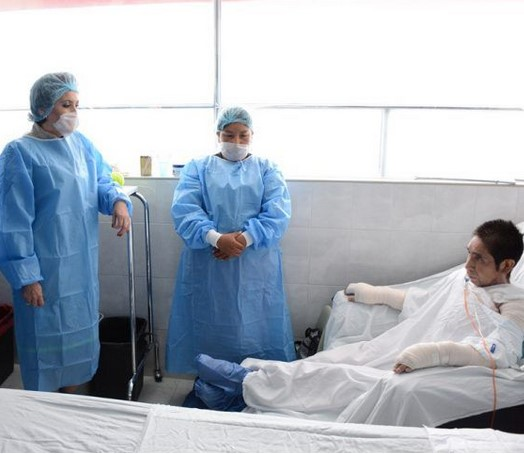face_no_mask: (461, 214, 524, 295)
face_with_mask: (27, 72, 89, 140), (212, 104, 259, 168)
